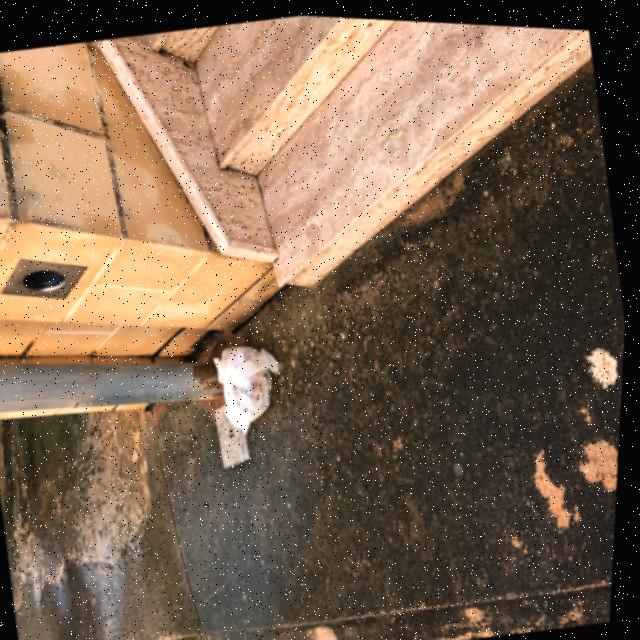Organic Waste -White Bag-: (209, 326, 305, 442)
